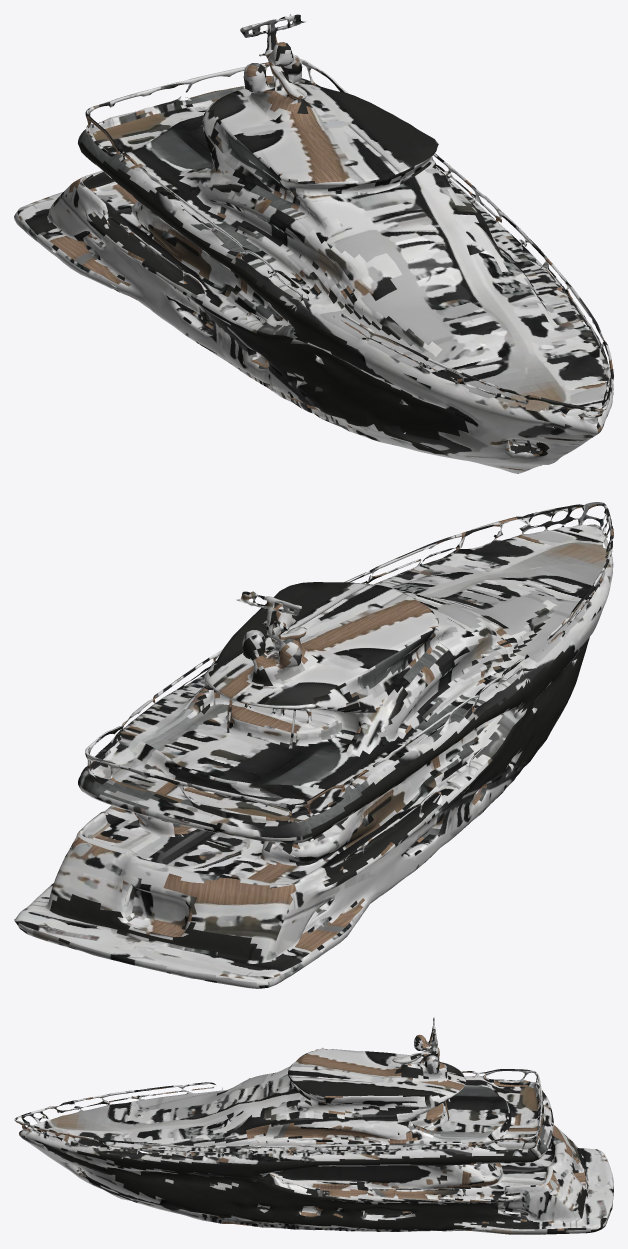
File: yacht.glb
The picture shows the model from 3 angles, top to bottom: view 1: azimuth 30°, elevation 25°; view 2: azimuth 150°, elevation 25°; view 3: azimuth 270°, elevation 25°; orthographic projection. The views are drawn at different scales.
Parts seen in each view (by area): view 1: geometry_0; view 2: geometry_0; view 3: geometry_0.
Part boxes in pixels (<box>): geometry_0: <box>14,14,613,473</box>; geometry_0: <box>14,502,613,988</box>; geometry_0: <box>14,1017,613,1234</box>.
Bounding box in the file's own units: 0.3211 × 0.3193 × 0.9748.
Materials: 1 (1 with a texture image).
